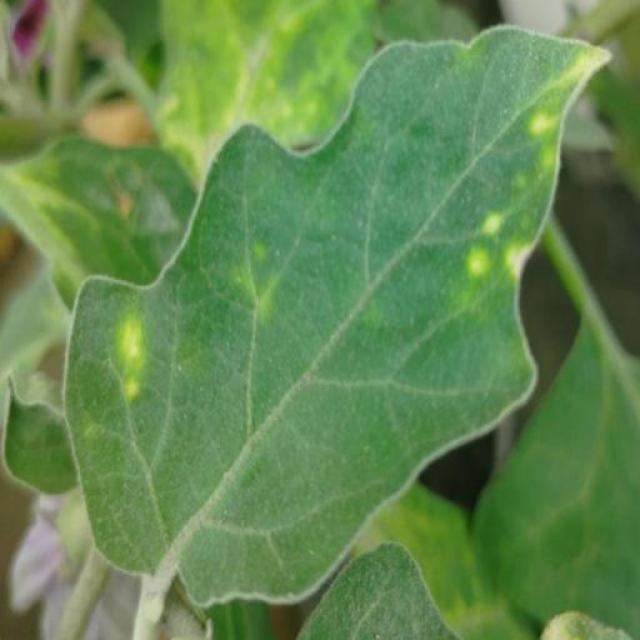leaf_spot: (120, 0, 207, 174), (516, 29, 617, 175), (2, 129, 94, 287), (208, 2, 307, 122), (405, 546, 526, 640), (452, 202, 547, 301), (224, 224, 296, 332), (340, 486, 471, 544), (296, 1, 349, 107), (112, 327, 170, 411), (263, 86, 342, 146), (339, 1, 425, 44), (541, 602, 612, 640), (80, 401, 112, 464), (506, 332, 538, 392), (116, 318, 172, 348), (358, 302, 404, 337), (198, 112, 230, 151), (448, 42, 492, 67), (414, 548, 426, 548)
